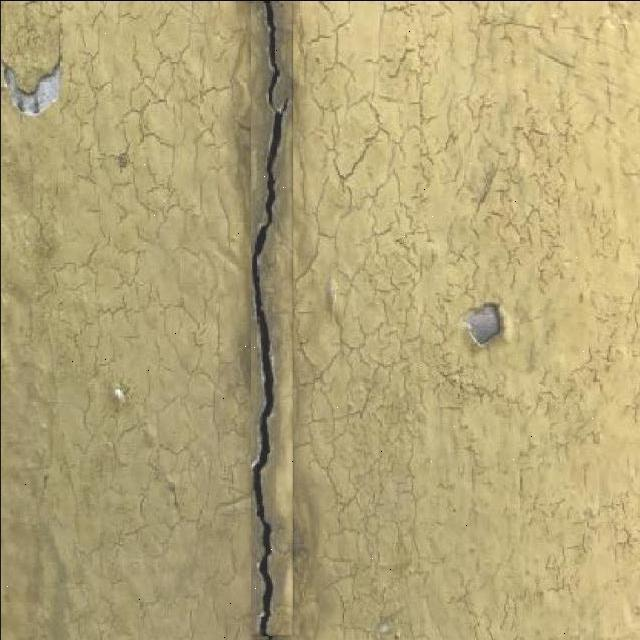crack: (249, 1, 292, 637)
